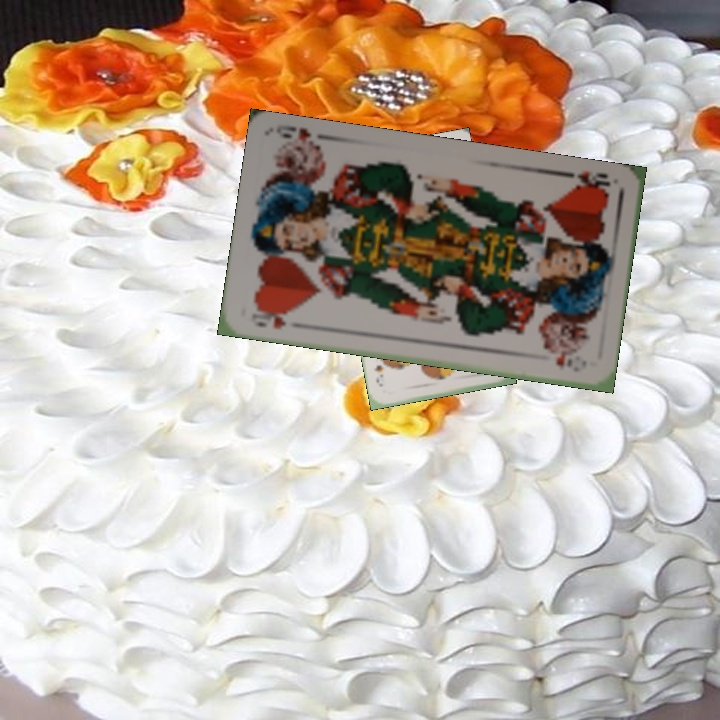HO: (559, 167, 613, 196), (248, 304, 290, 332)
